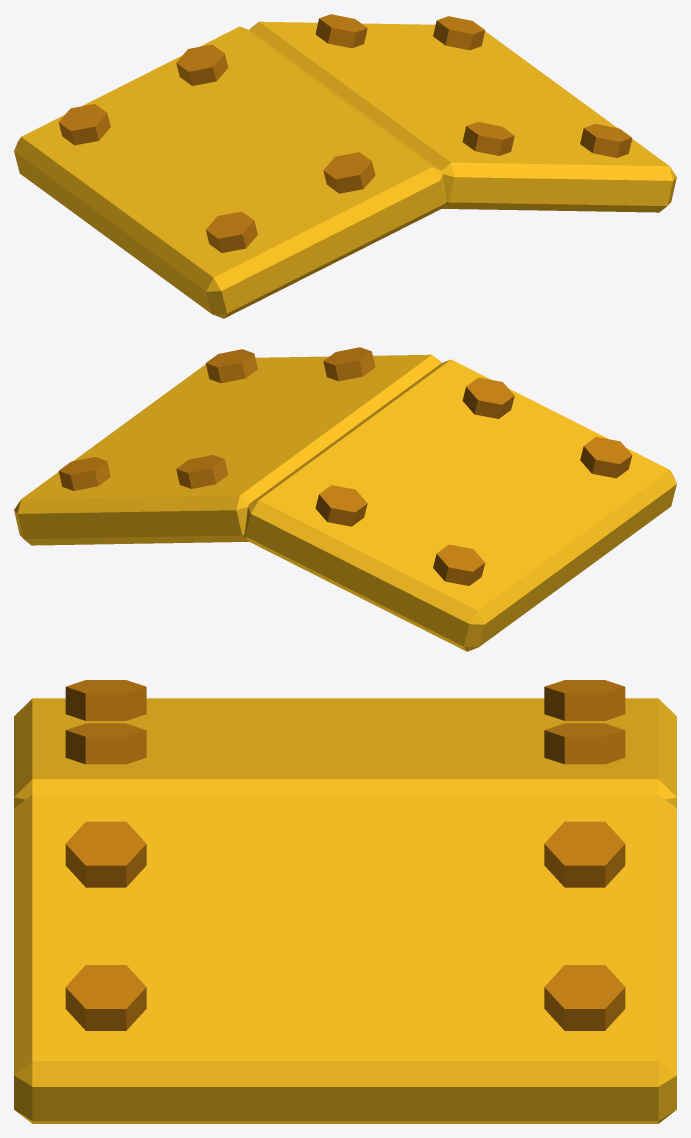
The model's file is item_plate_gold.fbx.
3 renders of one model, top to bottom at view 1: azimuth 30°, elevation 25°; view 2: azimuth 150°, elevation 25°; view 3: azimuth 270°, elevation 25°, orthographic. The views are drawn at different scales.
Parts seen in each view (by area): view 1: item_plate_gold; view 2: item_plate_gold; view 3: item_plate_gold.
Boxes of the visible parts, x1,y1,x2,y2 form: item_plate_gold: (14,14,676,318); item_plate_gold: (14,347,676,651); item_plate_gold: (14,680,676,1123).
Bounding box in the file's own units: 2.4 × 0.5144 × 1.8.
